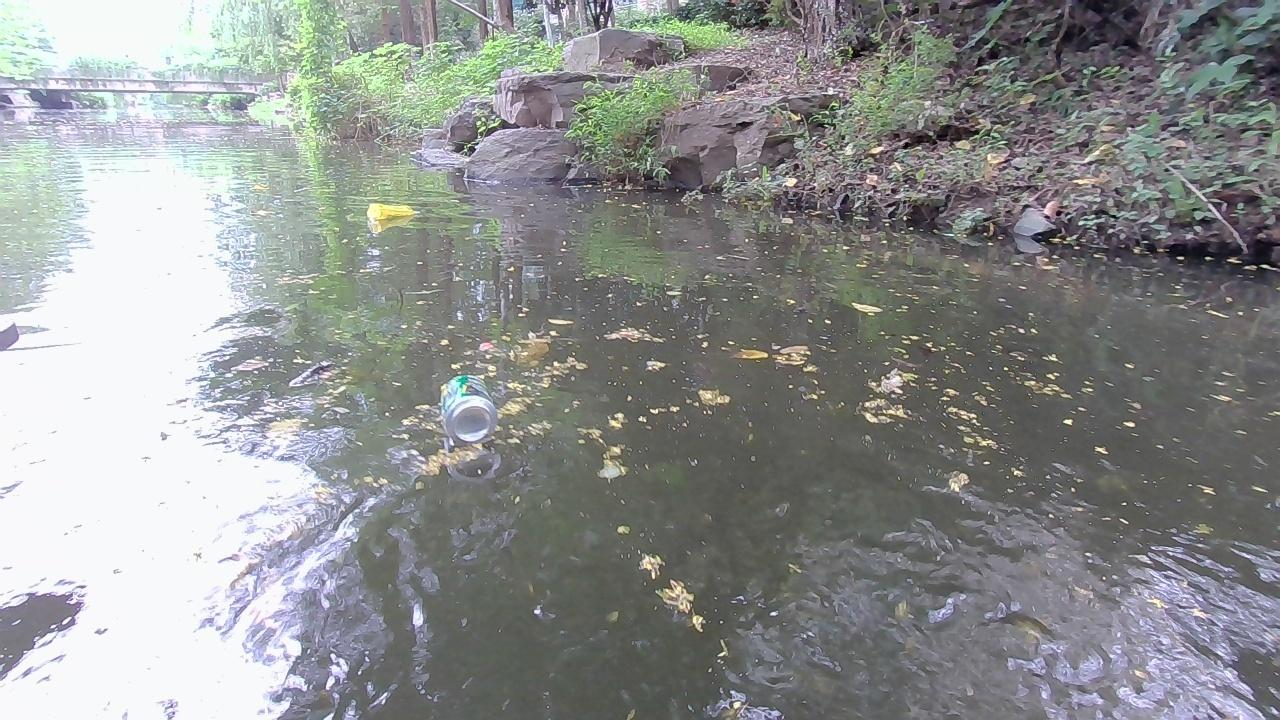bottle: (435, 366, 493, 436), (366, 203, 420, 220)
